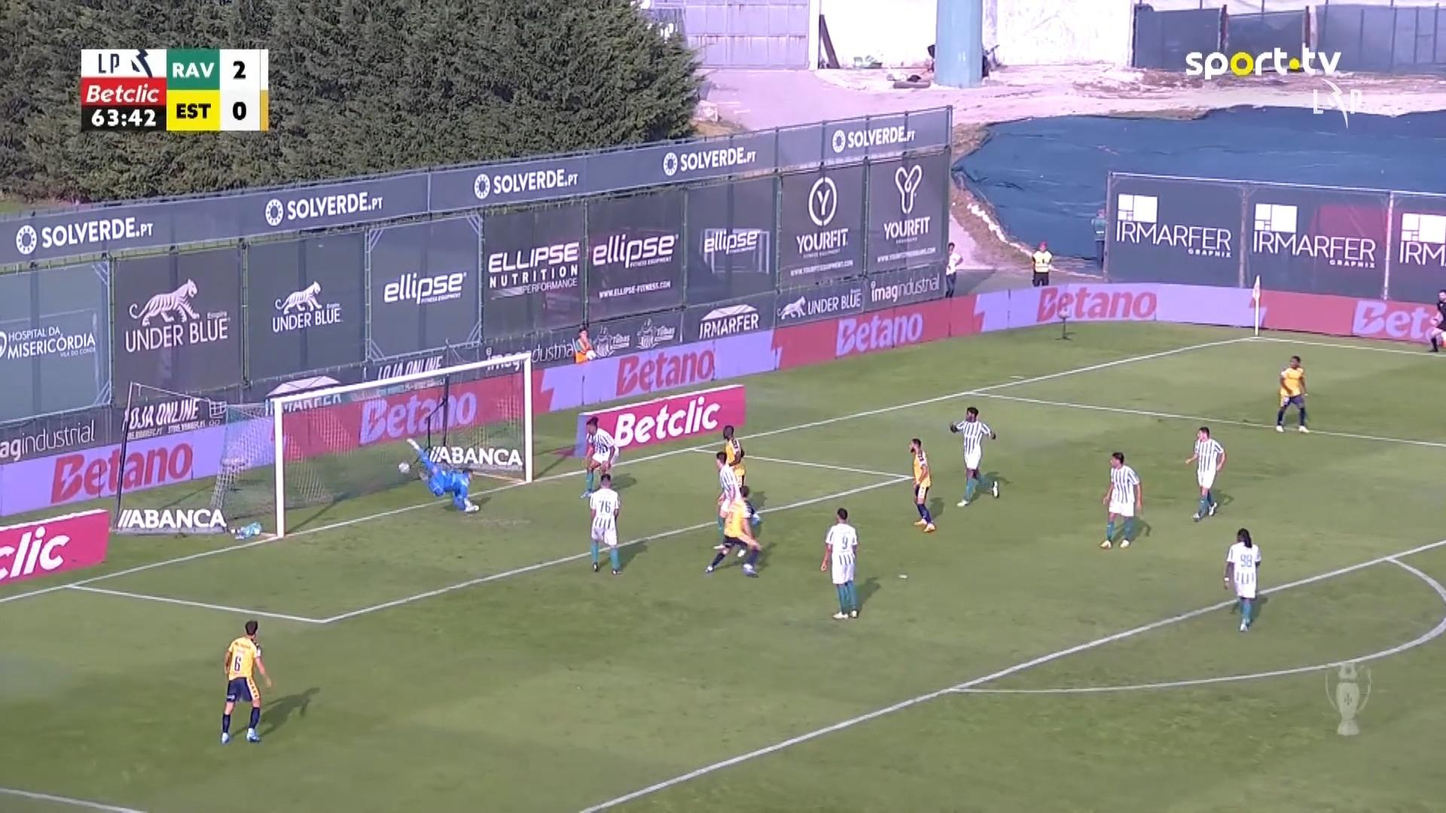ball: (398, 461, 410, 473)
goalkeeper: (404, 437, 480, 513)
player: (219, 618, 273, 744), (703, 485, 763, 577), (948, 405, 999, 507), (819, 507, 860, 619), (1098, 451, 1142, 548), (1222, 527, 1261, 632), (1183, 425, 1225, 521), (587, 473, 622, 574), (579, 415, 619, 498), (712, 451, 743, 541), (1275, 354, 1310, 433), (908, 437, 935, 532), (719, 424, 747, 496)
referee: (1426, 289, 1444, 352)
